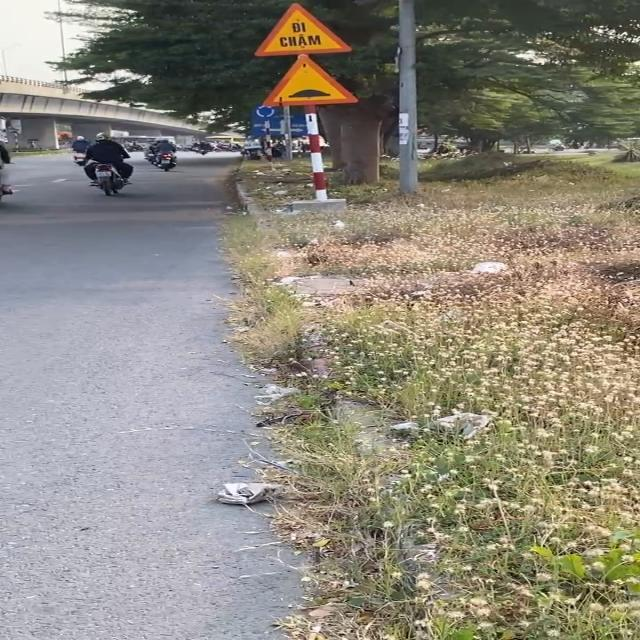221-duong-go-ghe: (264, 56, 360, 108)
245-di-cham: (252, 4, 352, 56)
303-noi-giao-nhau-chay-theo-vong-xuyen: (254, 104, 278, 120)
